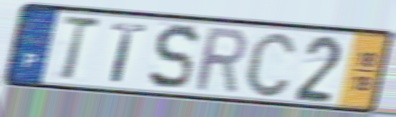2: (293, 32, 345, 106)
C: (243, 29, 299, 100)
R: (193, 26, 248, 96)
S: (147, 21, 202, 92)
T: (59, 15, 103, 84), (108, 20, 150, 84)
